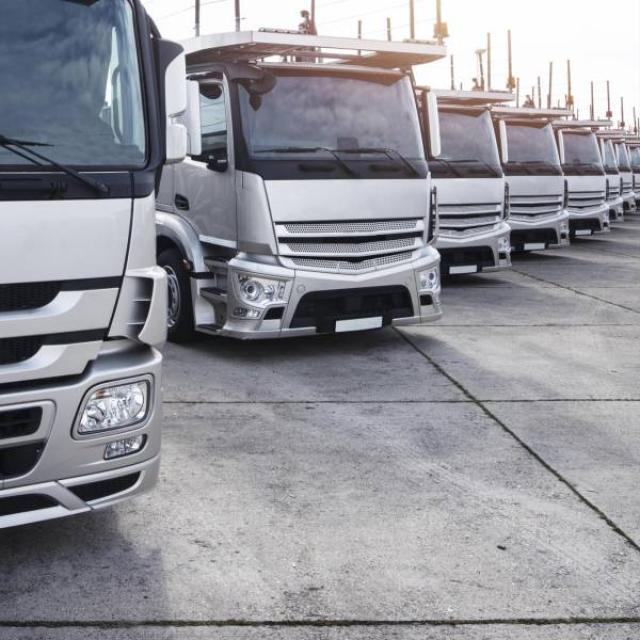TRUCK: (177, 22, 444, 366)
